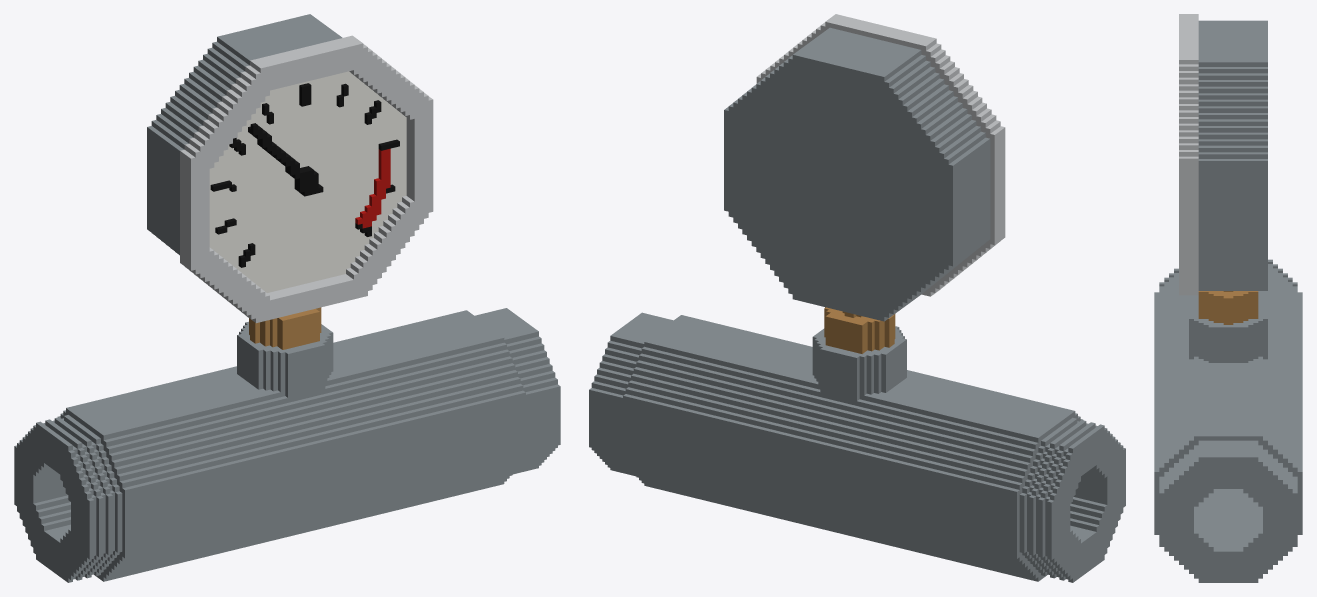
File: pressure_gauge.glb
3 renders of one model, left to right at view 1: azimuth 30°, elevation 25°; view 2: azimuth 150°, elevation 25°; view 3: azimuth 270°, elevation 25°, orthographic. The views are drawn at different scales.
Visible parts, largest first — view 1: pressure_gauge:compound; view 2: pressure_gauge:compound; view 3: pressure_gauge:compound.
Part boxes in pixels (x1,y1,x2,y2): pressure_gauge:compound: (14,14,560,582); pressure_gauge:compound: (589,14,1125,582); pressure_gauge:compound: (1154,14,1302,582).
Size of the model in its own units: 0.202 by 0.198 by 0.06.
